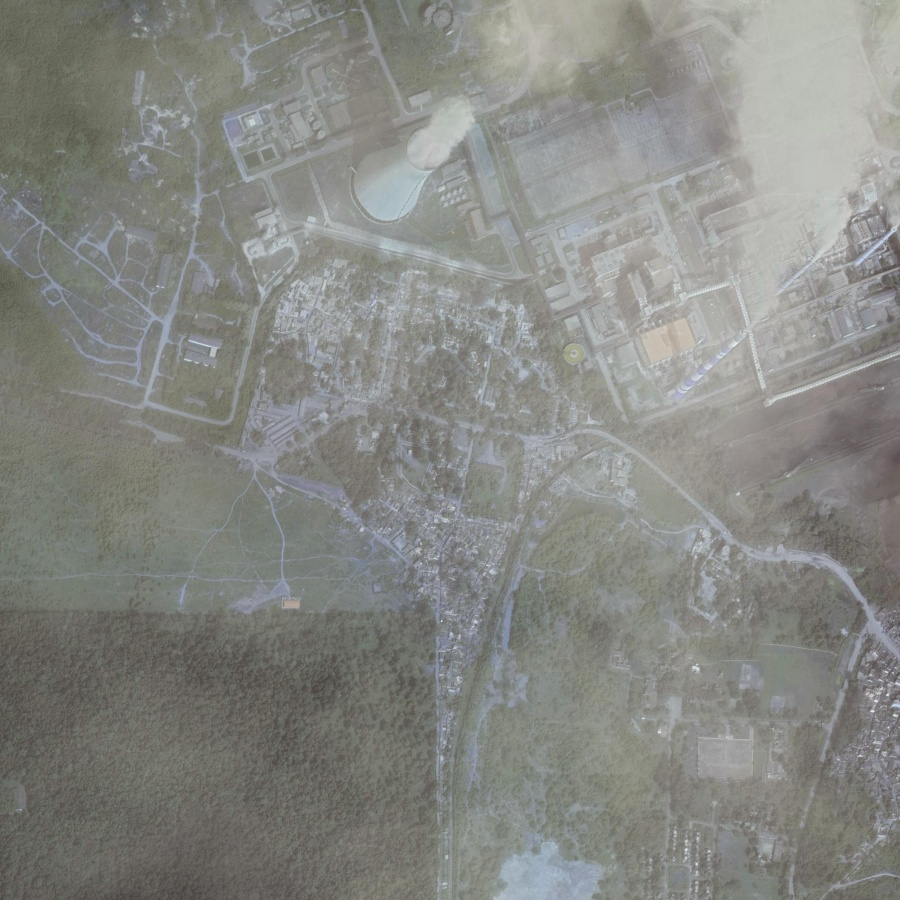PowerPlant: (343, 56, 498, 267)
